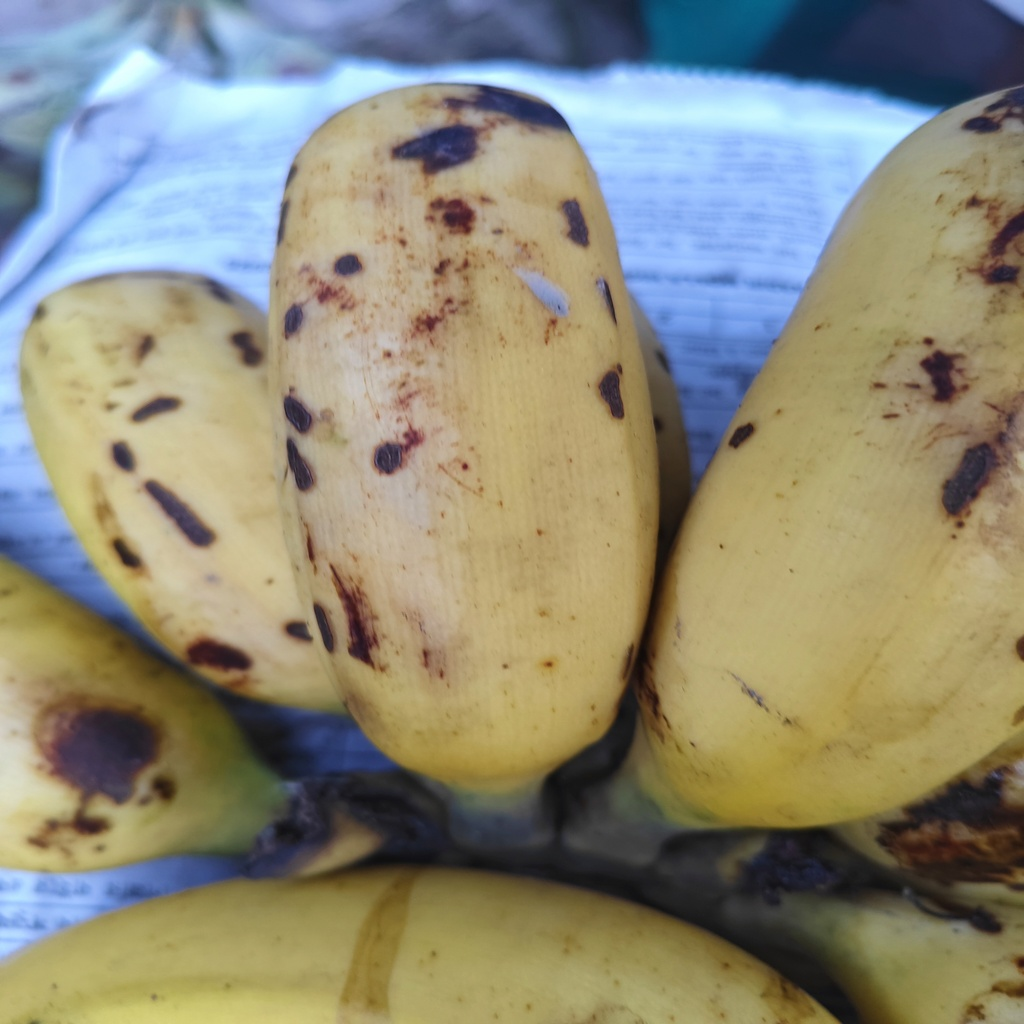unhealthy: (642, 98, 1021, 827), (272, 84, 659, 779)
